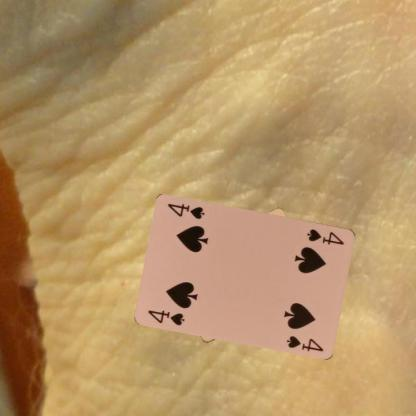4s: (304, 226, 346, 246), (146, 307, 186, 327)
